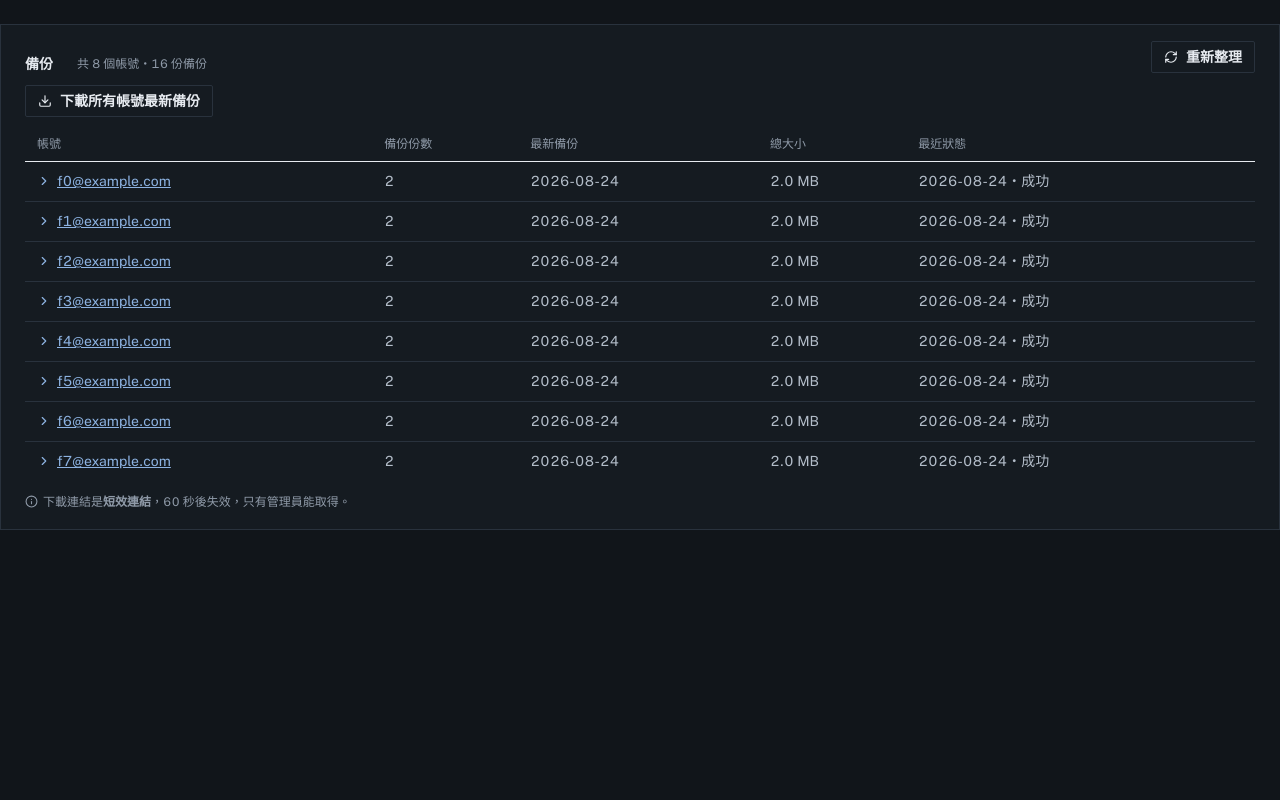
Test case: BackupsSection › 失敗帳號很多時橫幅只列前 5 個並附總數
Expected: the button "f0@example.com" is shown, top-left (37, 171), bottom-right (171, 192)
Step 1. Click the button "下載所有帳號最新備份" → (119, 101), box top-left (25, 85), bottom-right (213, 117)
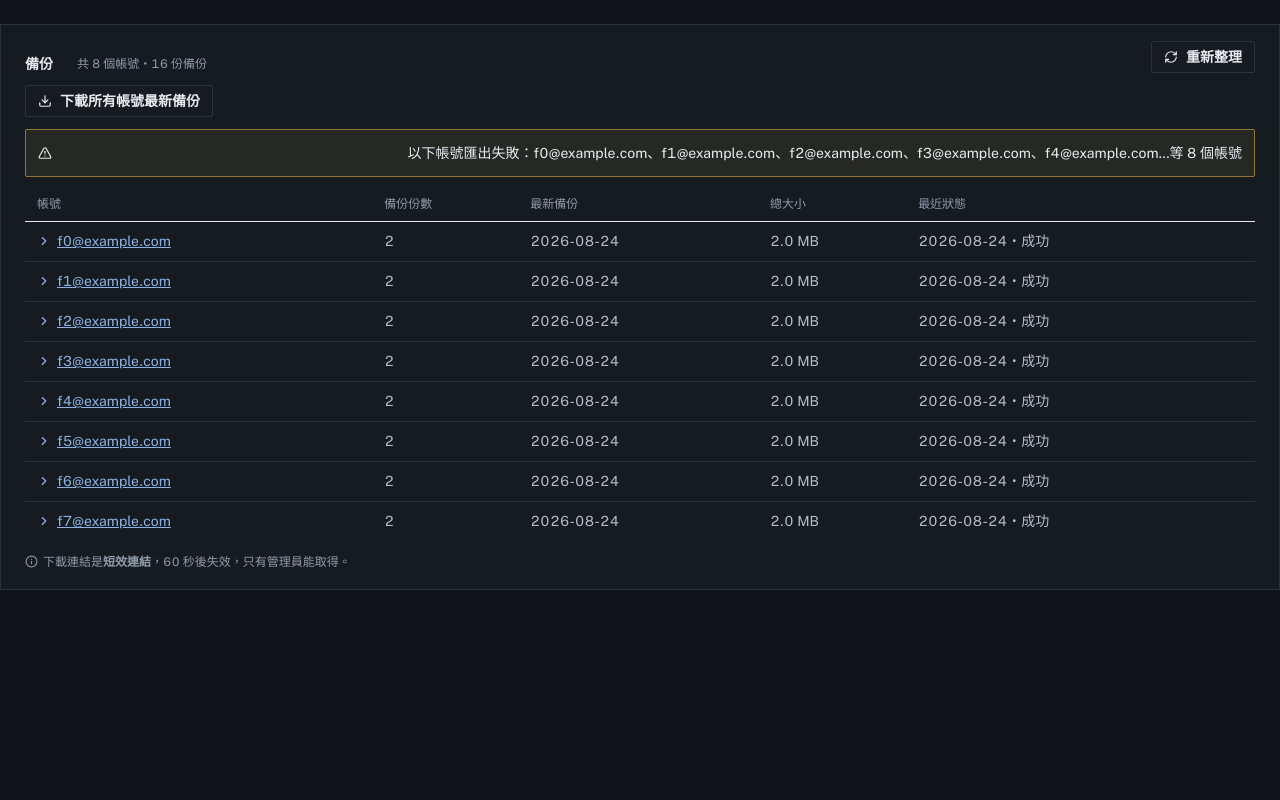
Expected: the text "以下帳號匯出失敗" does not show "f5@example.com"
Expected: the text "以下帳號匯出失敗" shows "f4@example.com", top-left (408, 144), bottom-right (1242, 160)
Expected: the text "以下帳號匯出失敗" shows "等 8 個帳號", top-left (408, 144), bottom-right (1242, 160)
